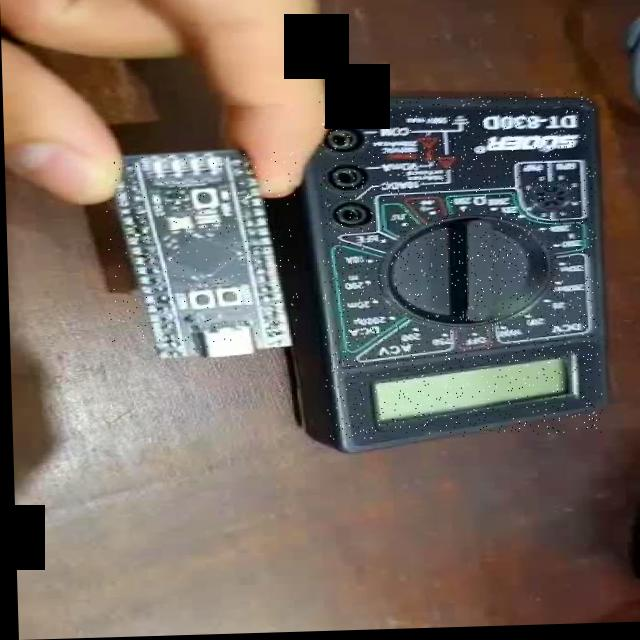multimeter: (317, 94, 600, 443)
stm32: (103, 153, 300, 362)
